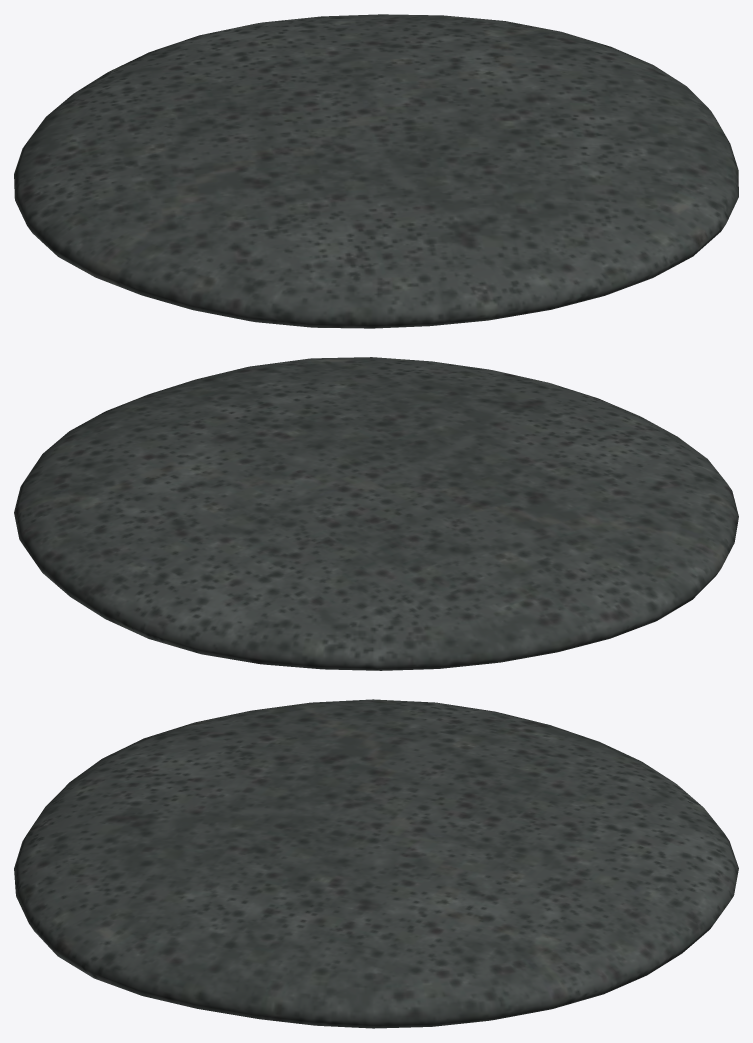
File: heavy_basalt_01.glb
The picture shows the model from 3 angles, top to bottom: view 1: azimuth 30°, elevation 25°; view 2: azimuth 150°, elevation 25°; view 3: azimuth 270°, elevation 25°; orthographic projection. The views are drawn at different scales.
Visible parts, largest first — view 1: heavy_basalt_01; view 2: heavy_basalt_01; view 3: heavy_basalt_01.
Boxes of the visible parts, left/top/right/bottom form: heavy_basalt_01: left=14, top=14, right=738, bottom=328; heavy_basalt_01: left=14, top=357, right=738, bottom=670; heavy_basalt_01: left=14, top=699, right=738, bottom=1028.
Size of the model in its own units: 0.0876 by 0.011 by 0.0849.
Materials: 1 (1 with a texture image).
